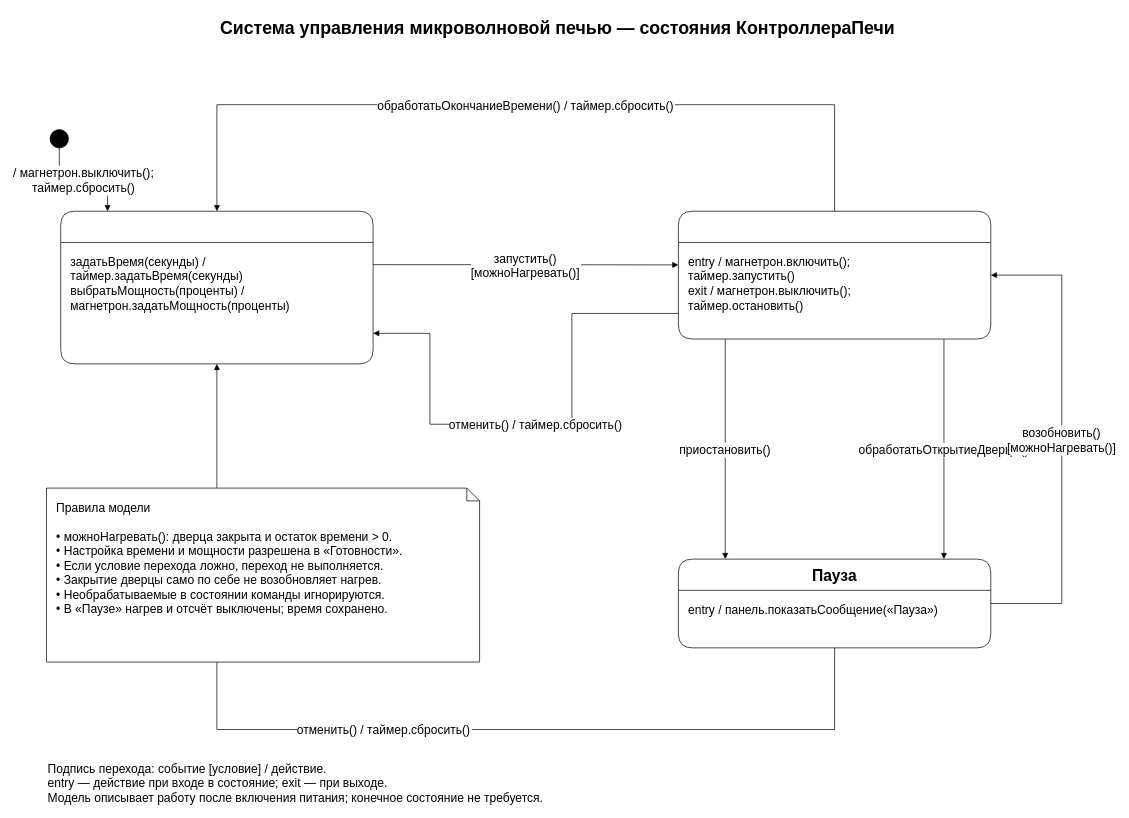
Image size: 1129x818. Some labels were removed from this diagram. Each missing label, with the box of its shape:
Готовность: (60, 211, 373, 364)
Нагрев: (678, 211, 991, 339)
